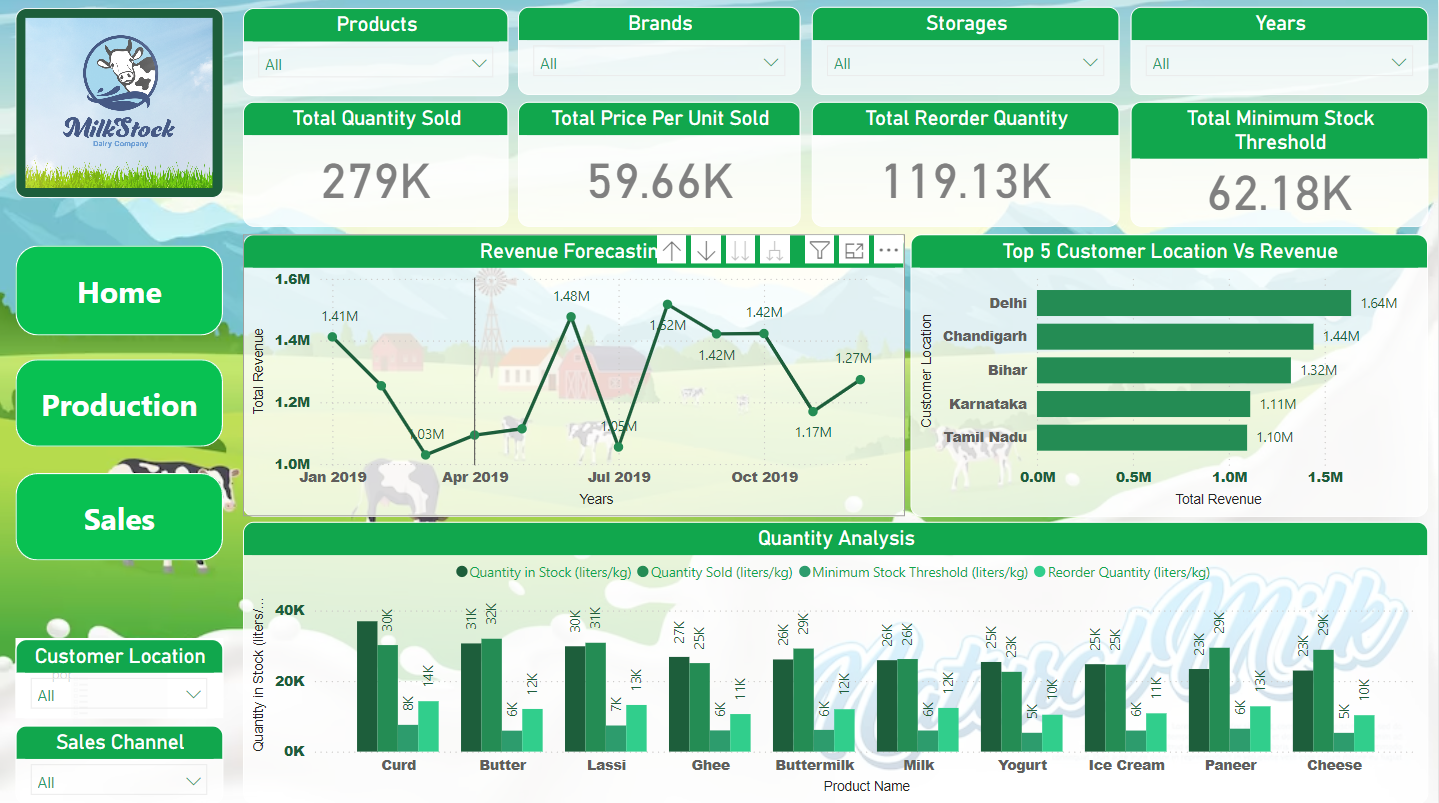

This screenshot's page, from the dashboard's own definition file:
{"tool":"powerbi","page":{"name":"Sales","canvas":[1280,720],"ordinal":2},"visuals":[{"type":"image","box":[15.9,8.7,184.7,168.8],"z":0},{"type":"shape","box":[15.6,220,184.4,80],"z":1000},{"type":"shape","box":[15.6,321.1,184.4,77.8],"z":2000},{"type":"shape","box":[15.6,422.2,184.4,77.8],"z":3000},{"type":"slicer","title":"Products","fields":{"Values":["dairy_goods.Product Name"]},"box":[217.5,8.8,236.2,78],"z":4000},{"type":"slicer","title":"Brands","fields":{"Values":["dairy_goods.Brand"]},"box":[462.5,7.5,251.2,78.8],"z":5000},{"type":"slicer","title":"Storages","fields":{"Values":["dairy_goods.Storage Condition"]},"box":[723.8,7.5,273.8,78.8],"z":6000},{"type":"slicer","title":"Years","fields":{"Values":["dairy_goods.Year"]},"box":[1006.2,7.5,265,78.8],"z":7000},{"type":"card","title":"Total Quantity Sold","fields":{"Values":["Sum(dairy_goods.Quantity Sold (liters/kg))"]},"box":[217.5,92.5,236.2,111.2],"z":8000},{"type":"card","title":"Total Price Per Unit Sold","fields":{"Values":["Sum(dairy_goods.Price per Unit (sold))"]},"box":[462.5,92.5,251.2,111.2],"z":9000},{"type":"card","title":"Total Reorder Quantity","fields":{"Values":["Sum(dairy_goods.Reorder Quantity (liters/kg))"]},"box":[723.8,92.5,273.8,111.2],"z":10000},{"type":"card","title":"Total Minimum Stock Threshold","fields":{"Values":["Sum(dairy_goods.Minimum Stock Threshold (liters/kg))"]},"box":[1006.2,92.5,265,111.2],"z":11000},{"type":"lineChart","title":"Revenue Forecasting","fields":{"Y":["Sum(dairy_goods.Approx. Total Revenue(INR))"],"Category":["dairy_goods.Date.Variation.Date Hierarchy.Year","dairy_goods.Date.Variation.Date Hierarchy.Month"]},"box":[217.5,210,588,251],"z":12000},{"type":"clusteredBarChart","title":"Top 5 Customer Location Vs Revenue","fields":{"Category":["dairy_goods.Customer Location"],"Y":["Sum(dairy_goods.Approx. Total Revenue(INR))"]},"box":[811.2,210,460,251],"z":13000},{"type":"clusteredColumnChart","title":"Quantity Analysis","fields":{"Category":["dairy_goods.Product Name"],"Y":["Sum(dairy_goods.Quantity in Stock (liters/kg))","Sum(dairy_goods.Quantity Sold (liters/kg))","Sum(dairy_goods.Minimum Stock Threshold (liters/kg))","Sum(dairy_goods.Reorder Quantity (liters/kg))"]},"box":[217.8,465.6,1053.3,251.1],"z":14000},{"type":"slicer","box":[15.6,568.9,184.4,71.1],"z":15000},{"type":"slicer","title":"Customer Location","fields":{"Values":["dairy_goods.Customer Location"]},"box":[15.6,570,184.4,70],"z":16000},{"type":"slicer","title":"Sales Channel","fields":{"Values":["dairy_goods.Sales Channel"]},"box":[15.6,646.7,184.4,70],"z":17000}]}

Visuals, with their boxes in screenshot pixels (x1, y1, x2, y2), scaled from the page's 1280x720 canvas onto the 1439x803 screenshot:
image: [18, 10, 226, 198]
shape: [18, 245, 225, 335]
shape: [18, 358, 225, 445]
shape: [18, 471, 225, 558]
"Products" slicer: [245, 10, 510, 97]
"Brands" slicer: [520, 8, 802, 96]
"Storages" slicer: [814, 8, 1122, 96]
"Years" slicer: [1131, 8, 1429, 96]
"Total Quantity Sold" card: [245, 103, 510, 227]
"Total Price Per Unit Sold" card: [520, 103, 802, 227]
"Total Reorder Quantity" card: [814, 103, 1122, 227]
"Total Minimum Stock Threshold" card: [1131, 103, 1429, 227]
"Revenue Forecasting" lineChart: [245, 234, 906, 514]
"Top 5 Customer Location Vs Revenue" clusteredBarChart: [912, 234, 1429, 514]
"Quantity Analysis" clusteredColumnChart: [245, 519, 1429, 799]
slicer: [18, 634, 225, 714]
"Customer Location" slicer: [18, 636, 225, 714]
"Sales Channel" slicer: [18, 721, 225, 799]
